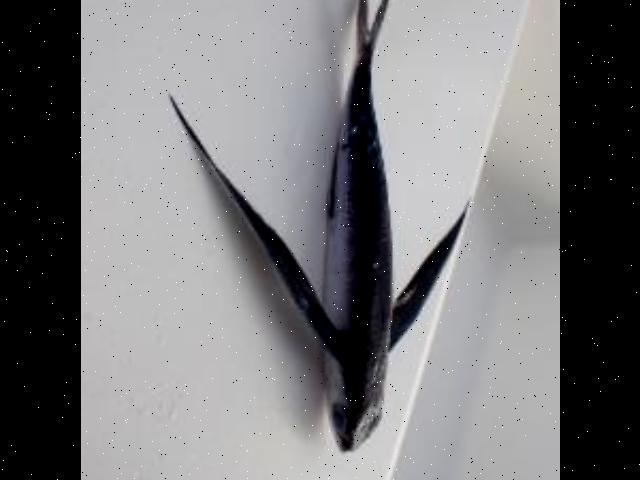Sirip Dada: (150, 74, 358, 378), (372, 178, 478, 356)
Sirip Ekor: (328, 0, 420, 68)
